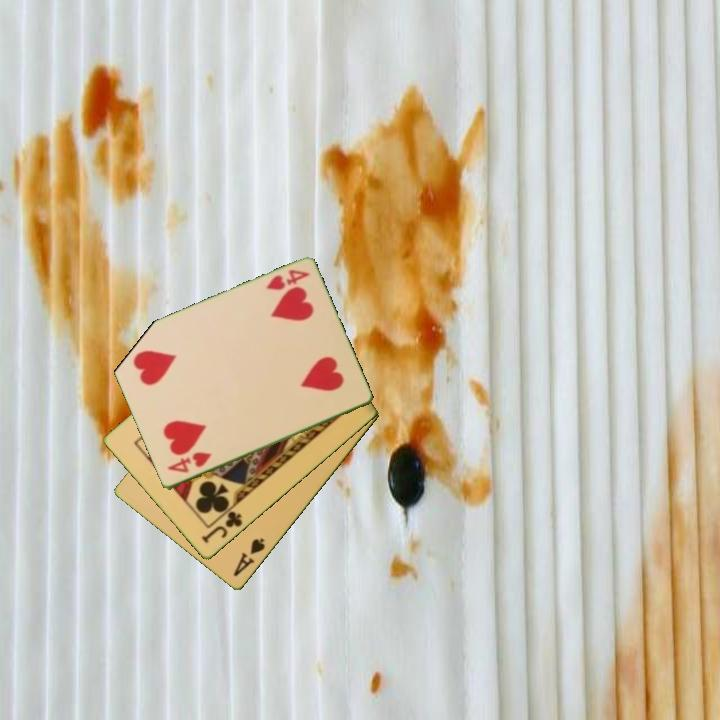4h: (262, 266, 313, 294), (163, 449, 214, 476)
As: (230, 534, 268, 580)
Jc: (198, 507, 245, 547)
